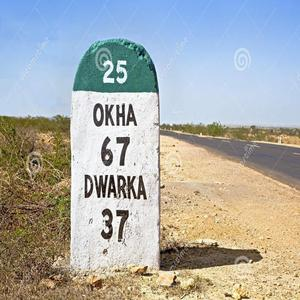kmstone: (71, 37, 162, 272)
